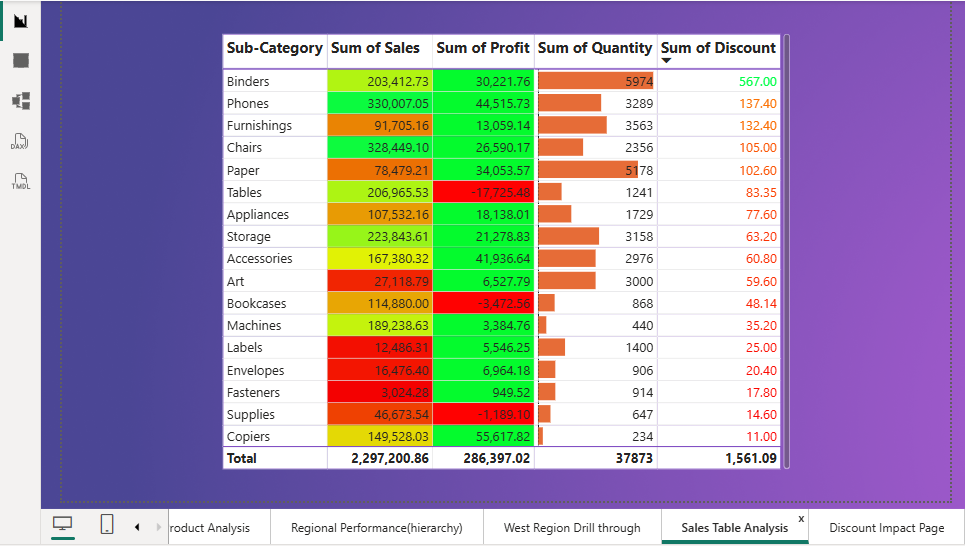

The page's visual inventory and layout, read from the dashboard file:
{"tool":"powerbi","page":{"name":"Sales Table Analysis","canvas":[1280,720],"ordinal":5},"visuals":[{"type":"tableEx","fields":{"Values":["Orders.Sub-Category","Sum(Orders.Sales)","Sum(Orders.Profit)","Sum(Orders.Quantity)","Sum(Orders.Discount)"]},"box":[210,26.7,858.3,666.7],"z":0}]}

Visuals, with their boxes on the page's 1280x720 design canvas (x1, y1, x2, y2). These are canvas units, not pixel positions in the 965x546 screenshot, which may show the page scaled, cropped or inside an application window:
tableEx - Orders.Sub-Category x Sum(Orders.Sales): {"x1": 210, "y1": 27, "x2": 1068, "y2": 693}
